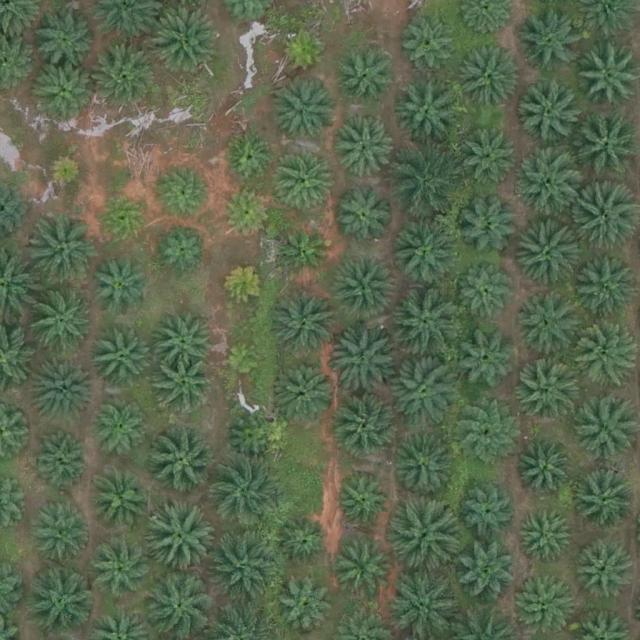Healthy: (392, 285, 463, 356), (390, 360, 461, 431), (390, 496, 461, 567), (147, 425, 218, 496), (391, 75, 462, 146), (331, 328, 402, 398), (270, 287, 340, 358), (212, 533, 282, 604), (514, 150, 585, 220), (514, 226, 584, 297), (392, 152, 462, 223), (150, 7, 220, 78), (89, 43, 159, 114), (28, 214, 98, 285), (567, 320, 637, 390), (214, 457, 284, 527), (143, 505, 213, 575), (574, 400, 637, 463), (520, 360, 583, 423), (454, 260, 517, 323), (394, 434, 457, 497), (92, 541, 155, 604), (32, 291, 95, 354), (30, 499, 93, 562), (335, 44, 398, 107), (335, 113, 398, 176), (575, 473, 638, 535), (517, 297, 579, 360), (453, 543, 515, 606), (332, 258, 394, 321), (340, 397, 402, 460), (278, 360, 340, 423), (153, 310, 215, 373), (87, 256, 149, 319), (91, 328, 153, 391), (91, 468, 153, 531), (30, 362, 92, 425), (30, 573, 92, 636), (577, 252, 639, 315), (521, 9, 583, 72), (517, 80, 579, 143), (458, 194, 520, 257), (460, 123, 523, 185), (460, 45, 522, 108), (331, 189, 393, 252), (272, 83, 334, 146), (271, 150, 333, 213), (36, 8, 98, 71), (397, 221, 459, 283), (36, 62, 98, 124), (337, 476, 392, 532), (93, 404, 148, 460), (518, 439, 573, 494), (518, 510, 573, 565), (459, 413, 514, 468), (458, 331, 513, 386), (280, 583, 335, 638), (226, 413, 281, 468), (159, 360, 214, 415), (34, 432, 89, 487), (158, 165, 213, 220), (158, 223, 213, 278), (219, 185, 274, 240), (224, 129, 279, 184), (401, 17, 456, 72), (277, 223, 332, 278), (578, 543, 632, 598), (463, 484, 517, 539), (340, 548, 394, 603), (277, 518, 331, 573), (96, 191, 150, 246)
Yellow: (278, 23, 333, 78), (222, 261, 269, 309), (44, 154, 84, 194), (226, 342, 265, 381)
